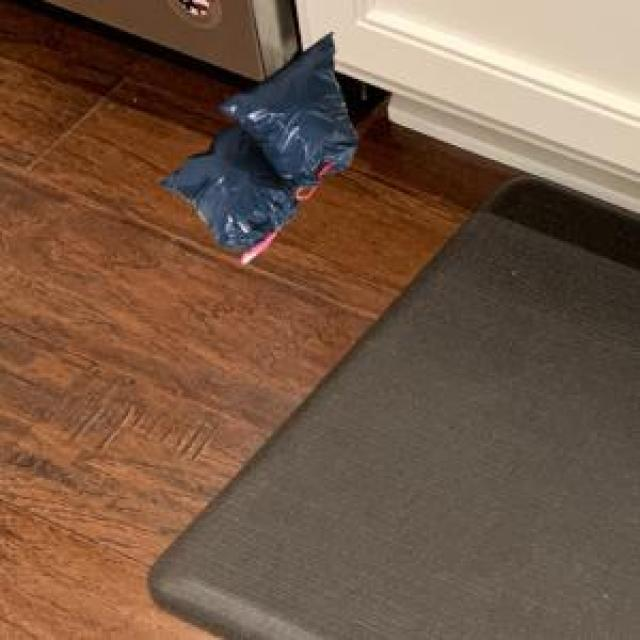Trashbag: (159, 136, 295, 256), (234, 59, 367, 174)
